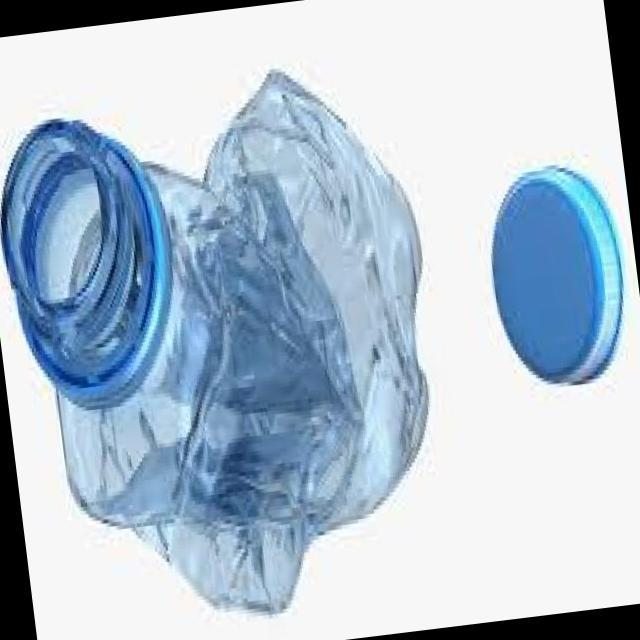defected: (0, 43, 468, 640)
